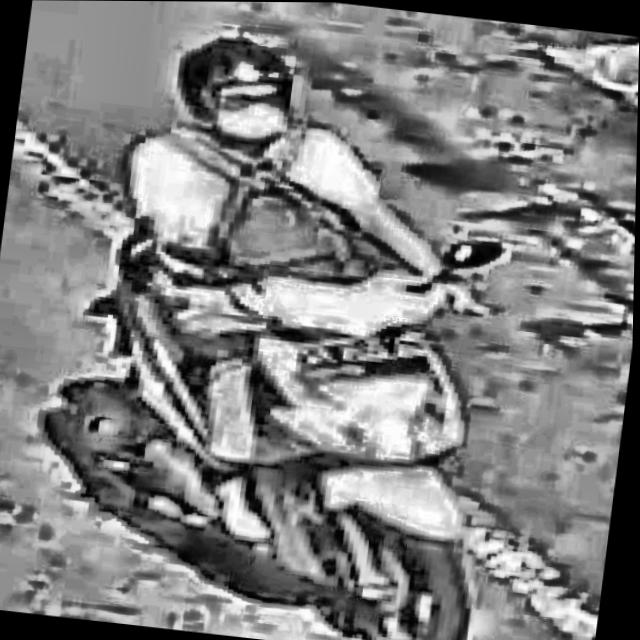motorcycle: (45, 168, 543, 640)
